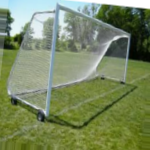goals: (8, 1, 132, 117)
